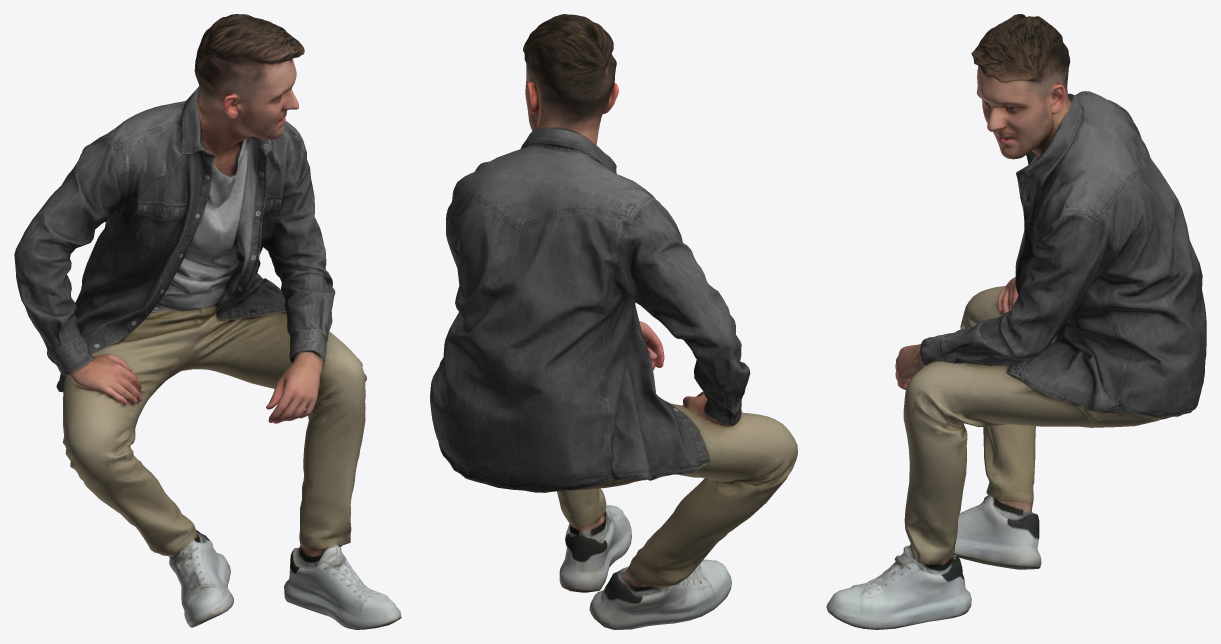
Rendered from man.compressed.glb.
3 renders of one model, left to right at view 1: azimuth 30°, elevation 25°; view 2: azimuth 150°, elevation 25°; view 3: azimuth 270°, elevation 25°, orthographic. The views are drawn at different scales.
Visible parts, largest first — view 1: Object_4; view 2: Object_4; view 3: Object_4.
Boxes of the visible parts, x1,y1,x2,y2 form: Object_4: (14, 14, 401, 629); Object_4: (430, 14, 797, 629); Object_4: (826, 14, 1206, 629).
Bounding box in the file's own units: 0.6946 × 1.34 × 0.8015.
Materials: 1 (1 with a texture image).
